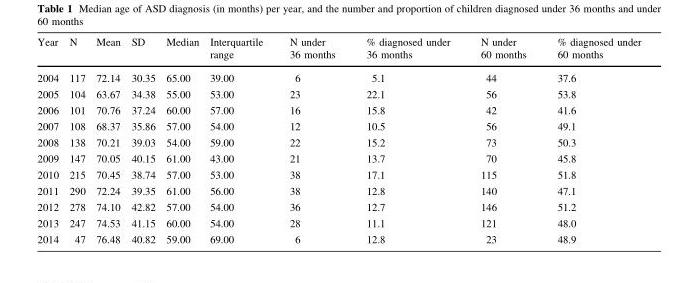table: (36, 36, 640, 244)
table column: (350, 36, 464, 244), (541, 36, 640, 244), (464, 36, 541, 244), (275, 36, 350, 244), (203, 36, 275, 244), (160, 36, 203, 244), (90, 36, 125, 244), (125, 36, 160, 244), (36, 36, 63, 244), (63, 36, 90, 244)
table column header: (36, 36, 640, 66)
table row: (36, 36, 640, 66), (36, 66, 640, 86), (36, 166, 640, 183), (36, 86, 640, 102), (36, 102, 640, 118), (36, 118, 640, 134), (36, 134, 640, 150), (36, 150, 640, 166), (36, 183, 640, 199), (36, 199, 640, 215), (36, 215, 640, 231), (36, 231, 640, 244)
